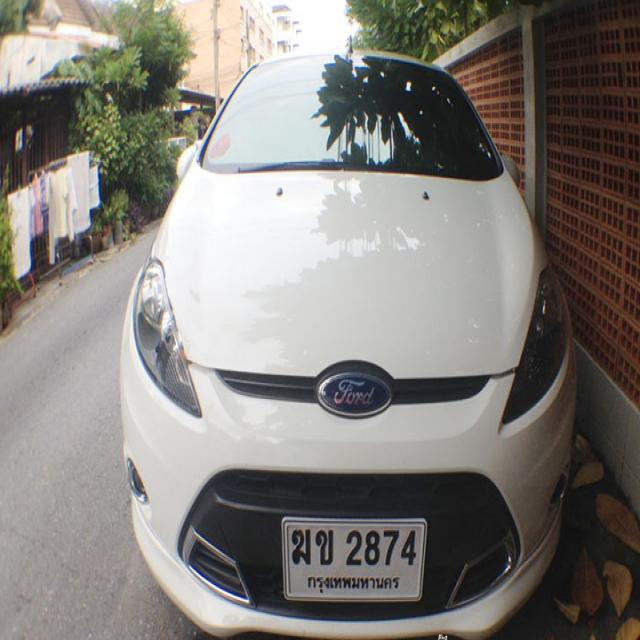license_plate: (275, 504, 430, 613)
